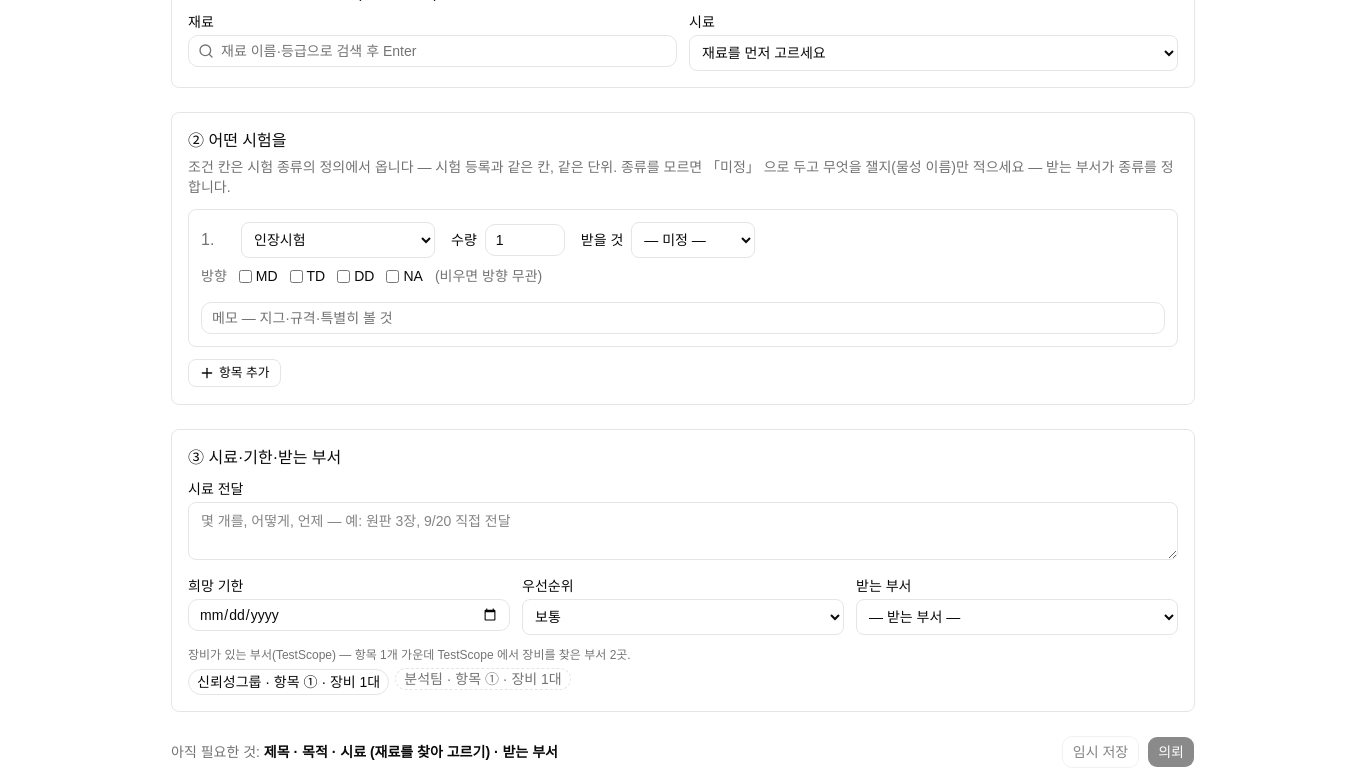
Test: 새 측정 의뢰 › 장비가 있는 부서를 추천하고, 누르면 받는 부서가 된다
(page scrolled)
Check: the button "의뢰" is shown, box [1147,736,1195,767]
Click the button "신뢰성그룹 · 항목 ① · 장비 1대". click: point(289, 682)
box: [188,669,389,695]
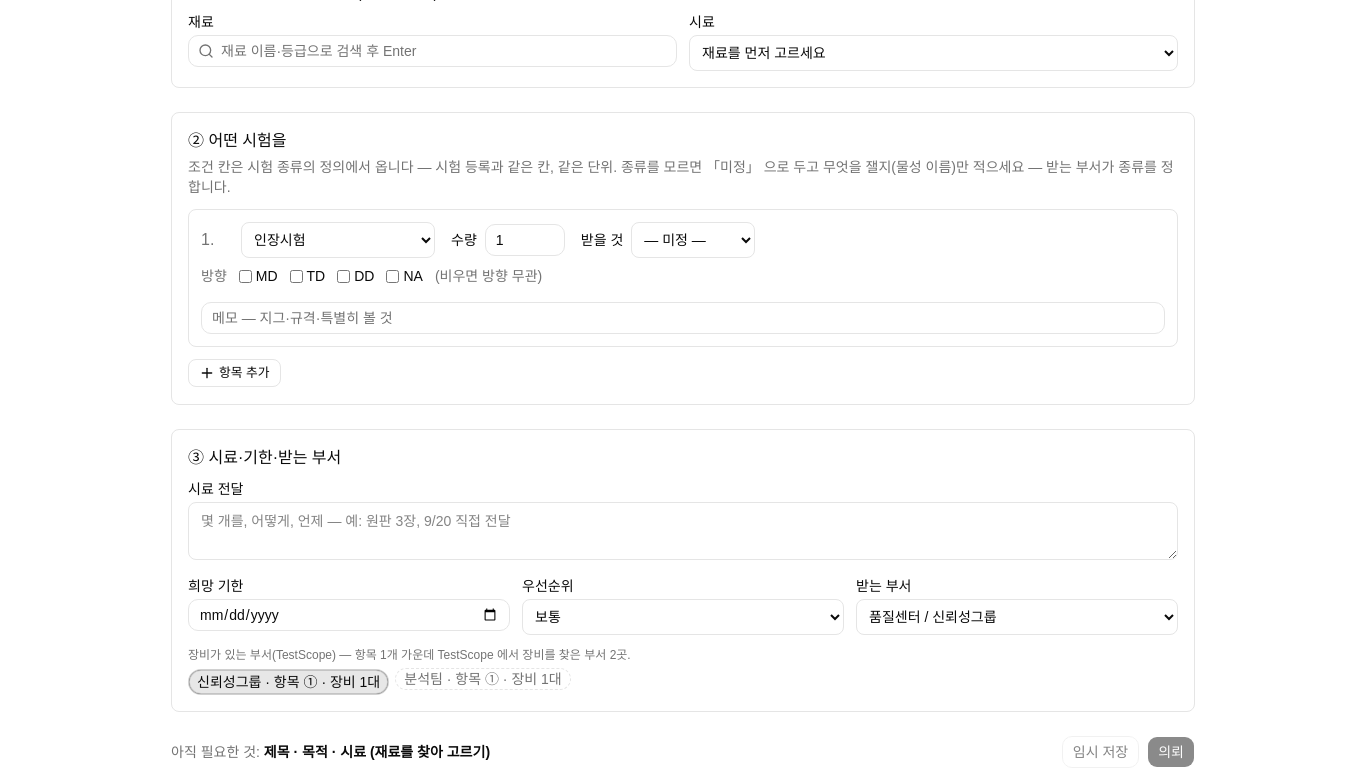
Check: the dropdown labelled "받는 부서" shows "품질센터 / 신뢰성그룹", box [856,599,1178,635]
